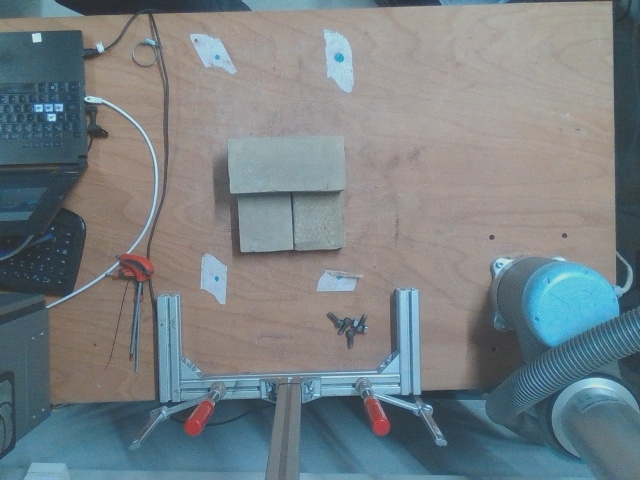brick: (227, 135, 347, 192)
